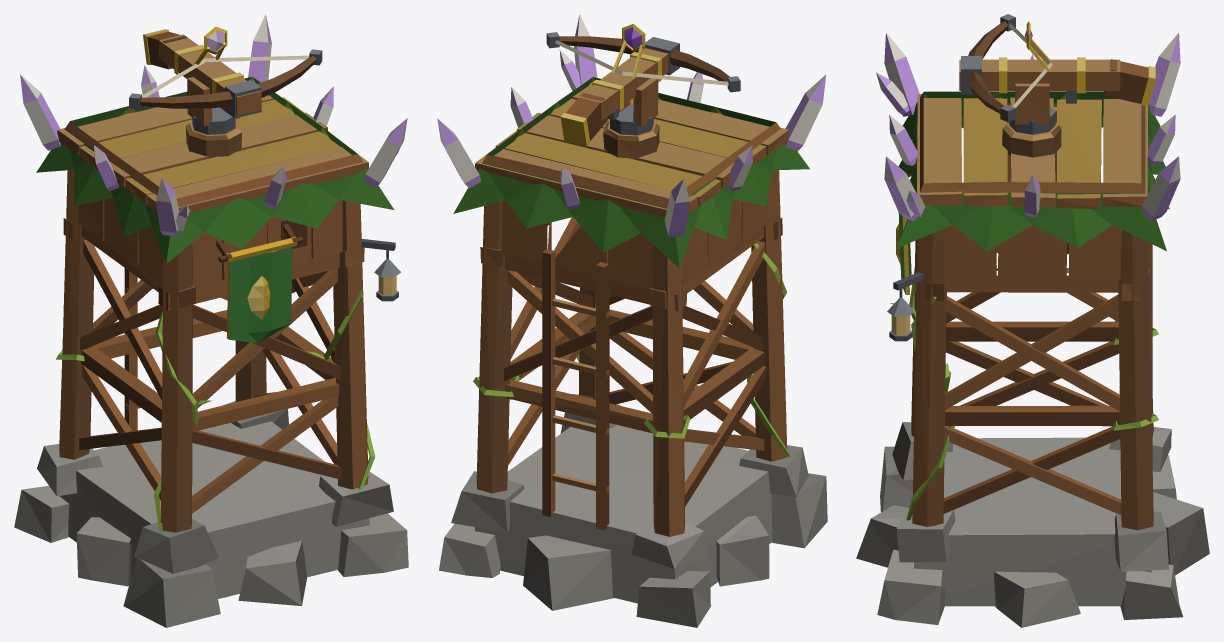
The model's file is acorn_tower_4.glb.
3 renders of one model, left to right at view 1: azimuth 30°, elevation 25°; view 2: azimuth 150°, elevation 25°; view 3: azimuth 270°, elevation 25°, orthographic. The views are drawn at different scales.
Visible parts, largest first — view 1: acorn_tower_4, turret, banner, bow_string; view 2: acorn_tower_4, turret, bow_string; view 3: acorn_tower_4, turret, banner.
Part boxes in pixels (x1,y1,x2,y2): acorn_tower_4: (14,14,408,627); turret: (129,26,322,134); banner: (226,237,297,343); bow_string: (142,55,309,97); acorn_tower_4: (437,14,827,627); turret: (546,24,740,146); bow_string: (555,40,728,85); acorn_tower_4: (856,32,1209,627); turret: (959,14,1155,134); banner: (896,212,911,294).
Size of the model in its own units: 1.76 by 3.15 by 1.88.
